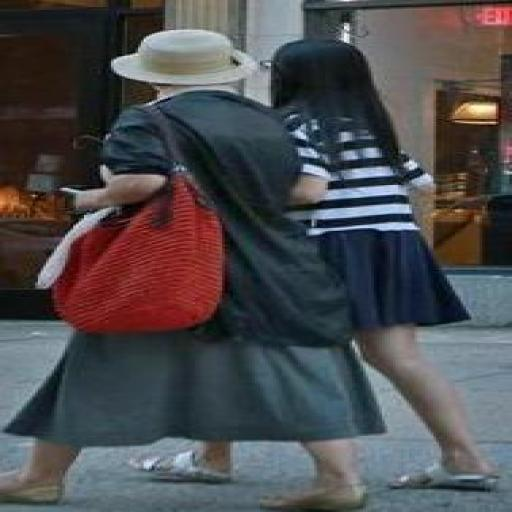person: (0, 31, 384, 510), (271, 41, 498, 490)
